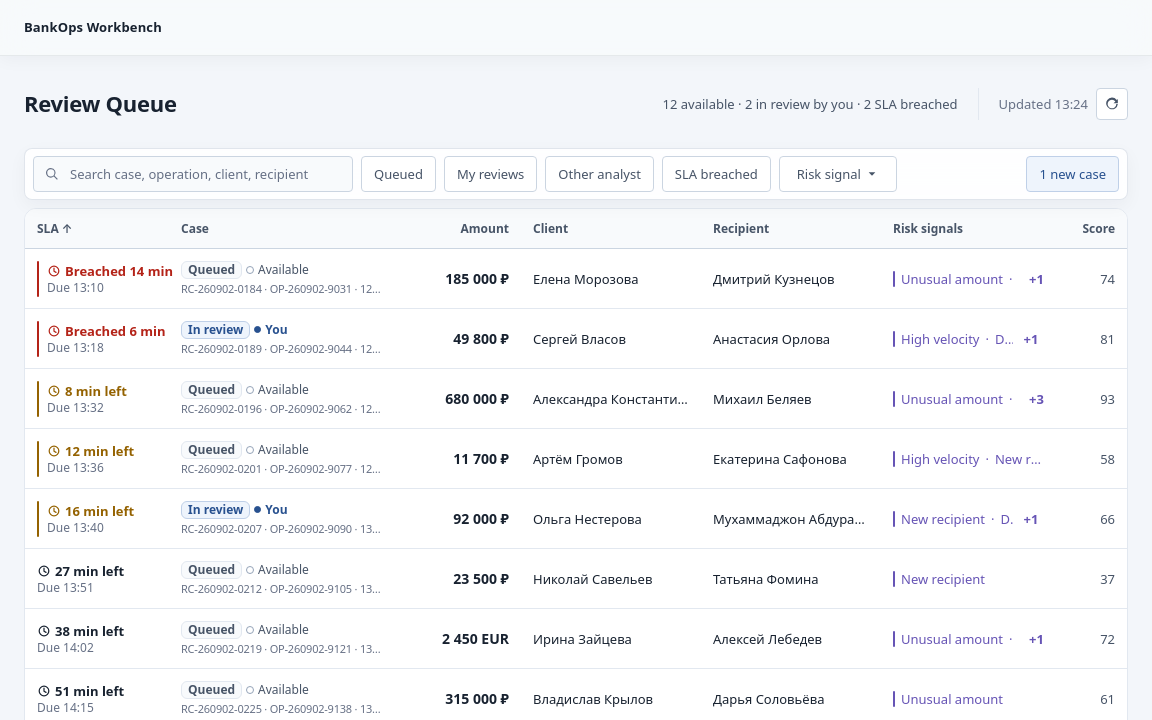
Test: Review Queue › keeps only one row risk disclosure open, toggles it and dismisses it on outside interaction
Click the button named "Show 1 more risk signals for case RC-260902-0184" at (1036, 278), box [1024,266,1048,290]
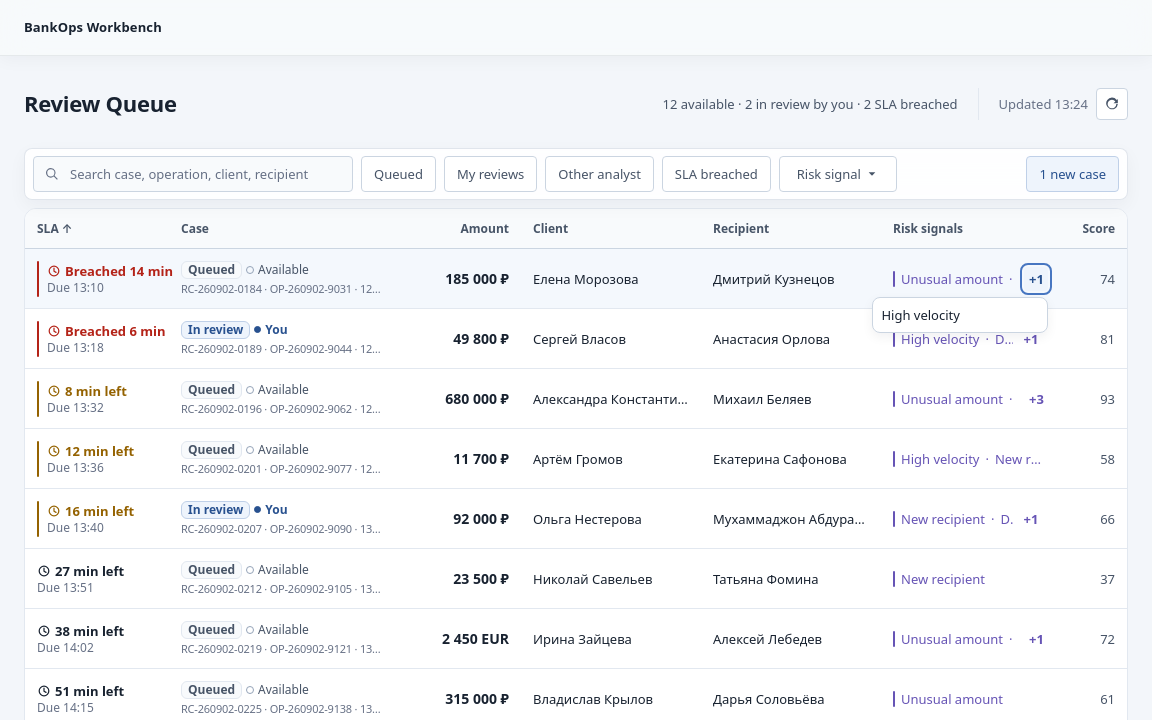
Click the button named "Show 1 more risk signals for case RC-260902-0189" at (1031, 338), box [1019,326,1043,350]
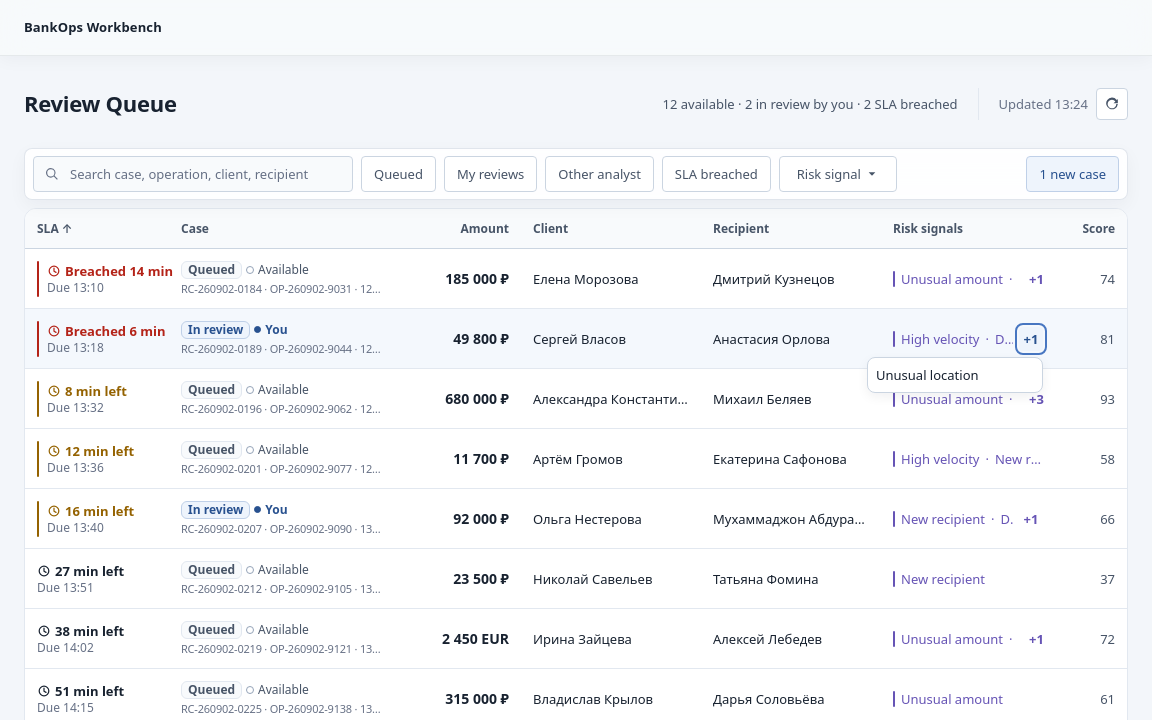
Expected: the number of lists is 1, [876,366,979,384]
Expected: the button named "Show 1 more risk signals for case RC-260902-0184" is collapsed, [1024,266,1048,290]
Expected: the button named "Show 1 more risk signals for case RC-260902-0189" is expanded
Click the button named "Show 1 more risk signals for case RC-260902-0189" at (1031, 338), box [1019,326,1043,350]
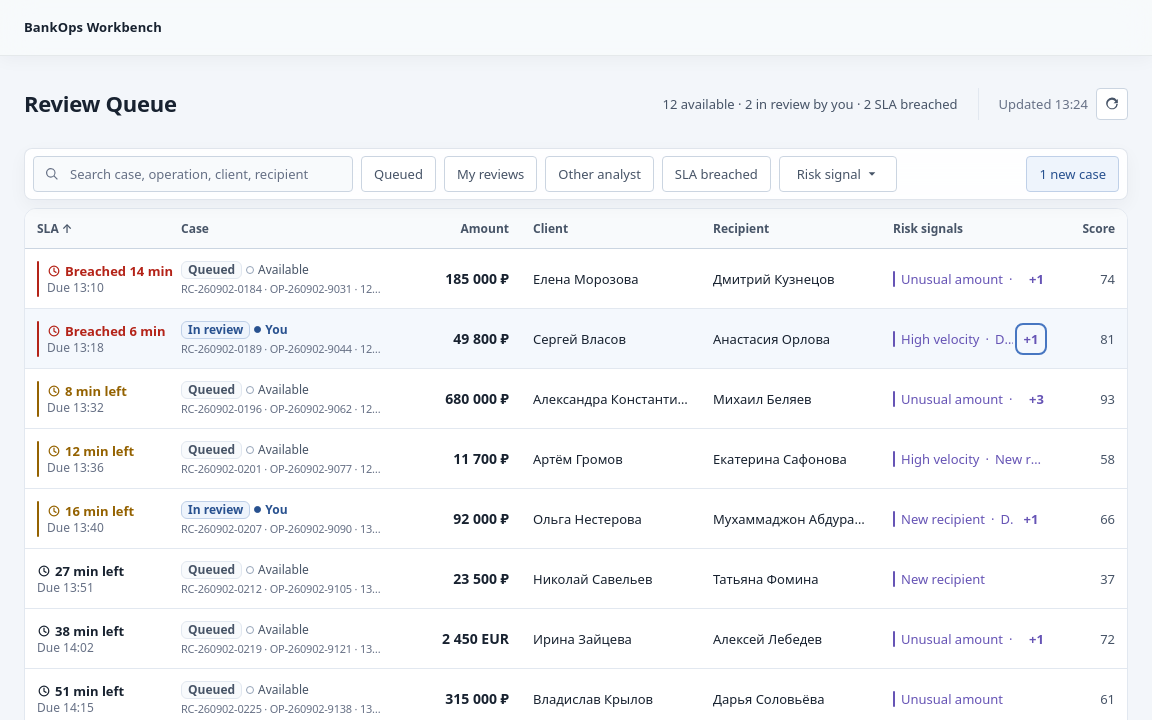
Expected: the list is gone
Click the button named "Show 1 more risk signals for case RC-260902-0184" at (1036, 278), box [1024,266,1048,290]
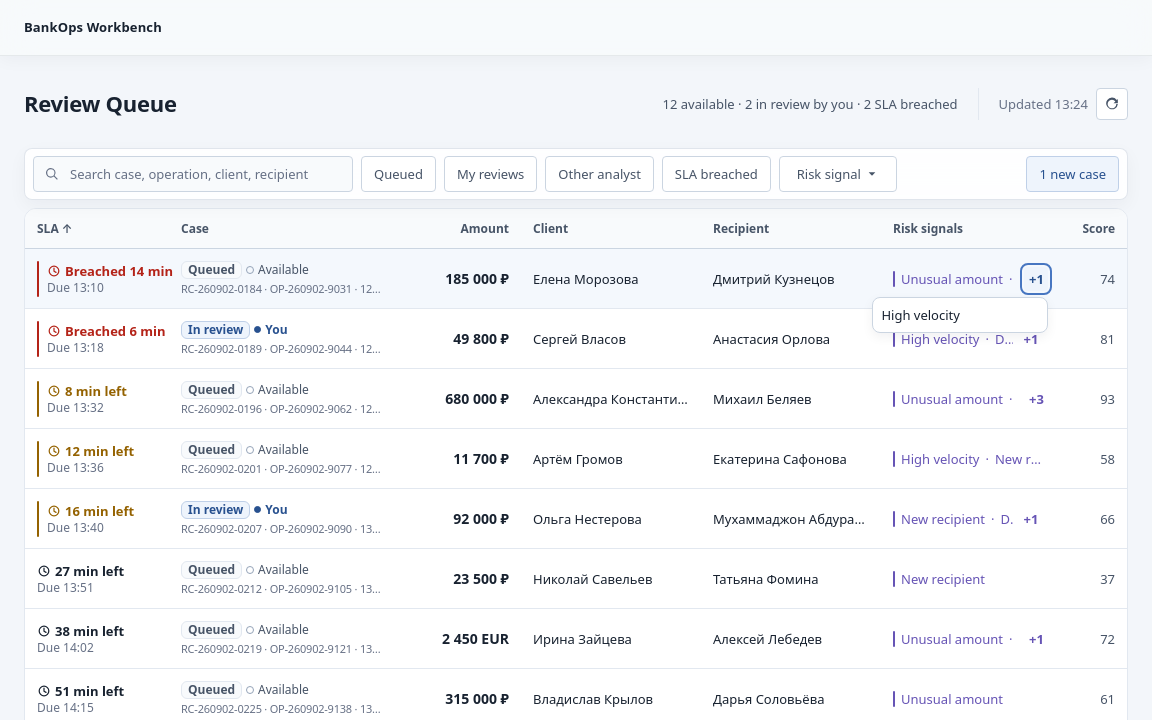
Click the search field at (193, 174), box [33,156,353,192]
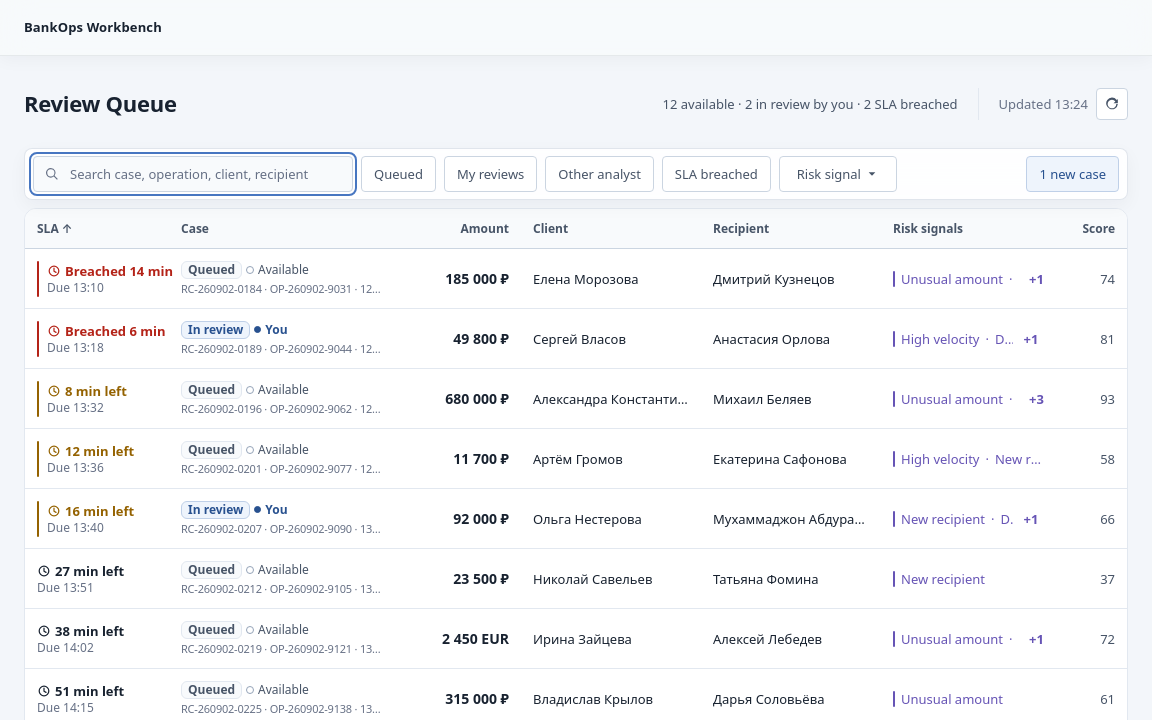
Expected: the button named "Show 1 more risk signals for case RC-260902-0184" is collapsed, [1024,266,1048,290]
Expected: the list is gone
